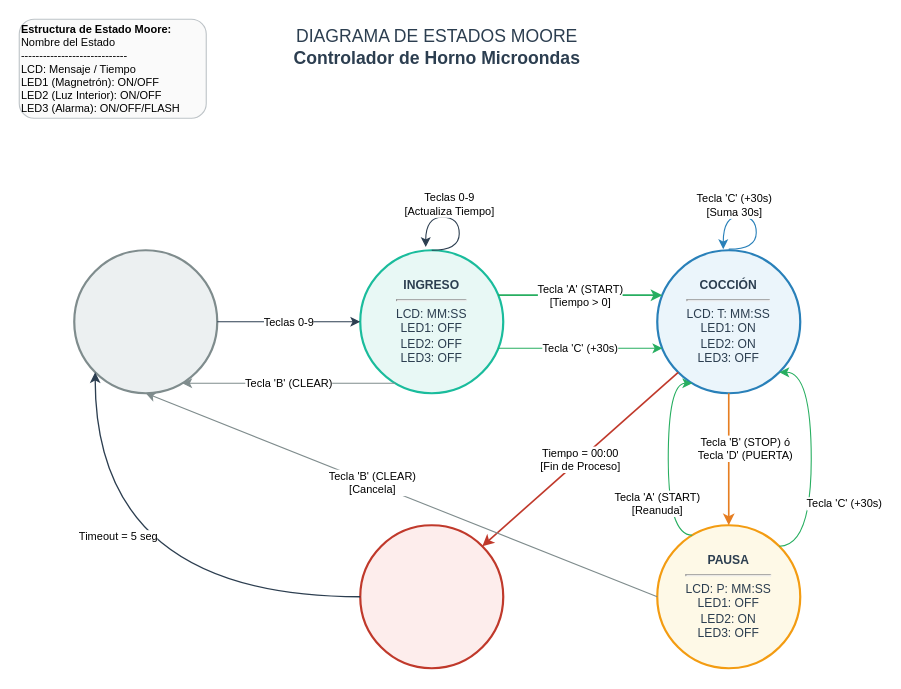
Image size: 901x689. Some labels were removed from this diagram. Each missing label, with the centre of its shape:
FINALIZAR LCD: 'FIN!' (Blink) LED1: OFF LED2: ON LED3: FLASH: (431,596)
REPOSO LCD: '00:00' LED1: OFF LED2: OFF LED3: OFF: (145,321)
